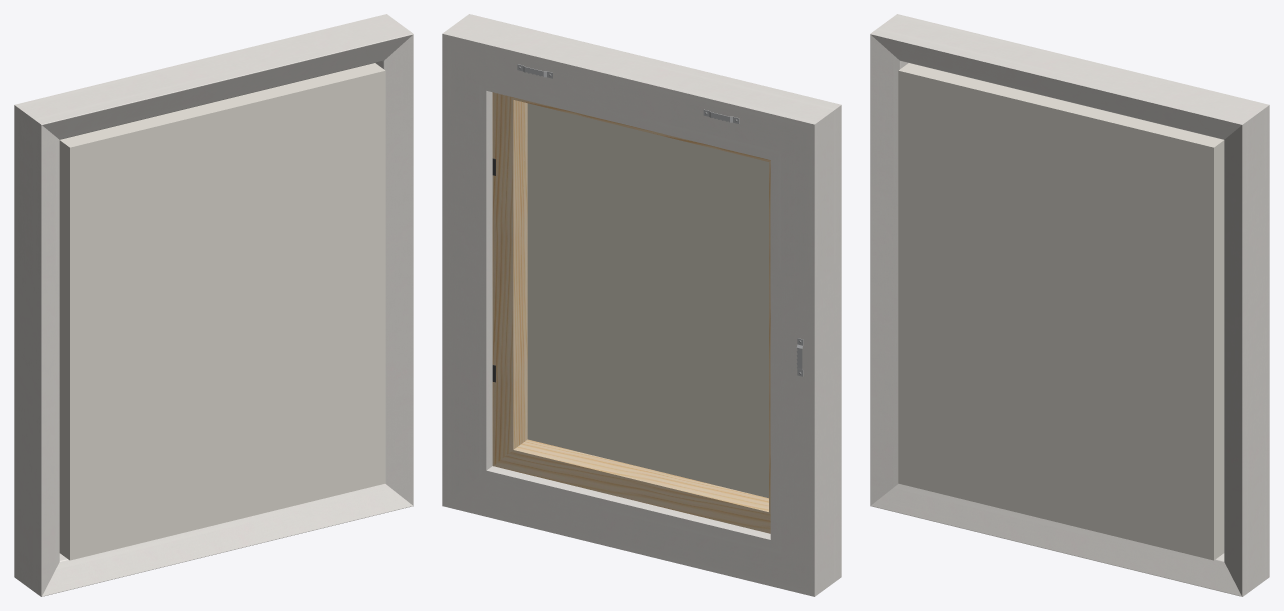
3 views of the same model, side by side, from view 1: azimuth 30°, elevation 25°; view 2: azimuth 150°, elevation 25°; view 3: azimuth 330°, elevation 25° (orthographic).
Parts seen in each view (by area): view 1: Canvas artwork front, Tray approved profile 0; view 2: Tray approved profile 0, Canvas linen reverse, Stretcher top, Sawtooth hanger 0; view 3: Canvas artwork front, Tray approved profile 0.
Part boxes in pixels (bbox=[...]): Canvas artwork front: bbox=[59, 63, 385, 560]; Tray approved profile 0: bbox=[14, 14, 413, 596]; Tray approved profile 0: bbox=[442, 14, 841, 596]; Canvas linen reverse: bbox=[527, 103, 768, 498]; Stretcher top: bbox=[492, 92, 770, 533]; Sawtooth hanger 0: bbox=[517, 64, 803, 376]; Canvas artwork front: bbox=[898, 63, 1224, 560]; Tray approved profile 0: bbox=[870, 14, 1269, 596].
Size of the model in its own units: 0.472 by 0.572 by 0.0624.
Materials: 7 (3 with a texture image).
